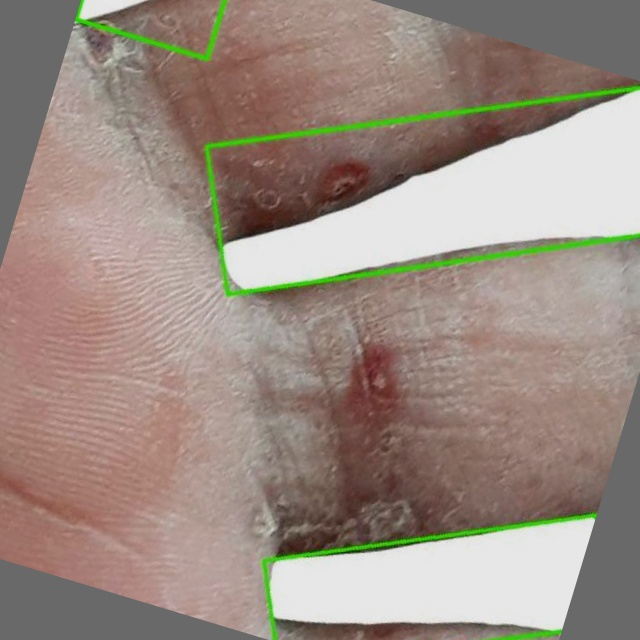Scabies: (199, 72, 639, 294), (262, 516, 595, 639)
